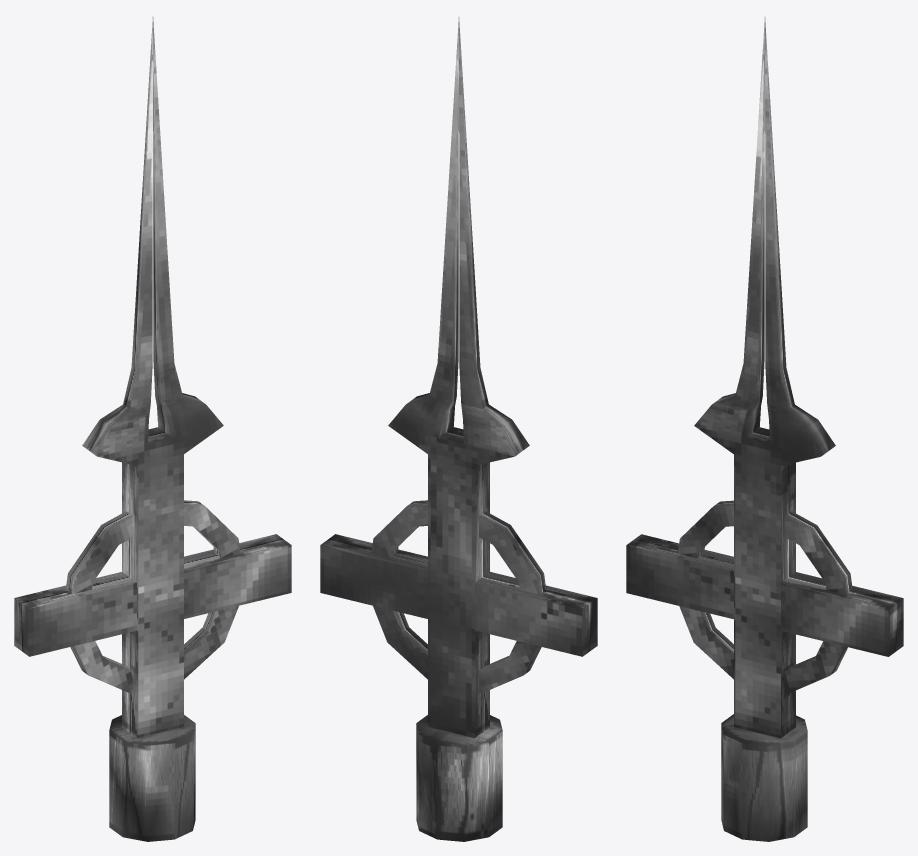
File: cross_ornament_finalwt.fbx
The picture shows the model from 3 angles, left to right: view 1: azimuth 30°, elevation 25°; view 2: azimuth 150°, elevation 25°; view 3: azimuth 330°, elevation 25°; orthographic projection.
Visible parts, largest first — view 1: Cylinder.001; view 2: Cylinder.001; view 3: Cylinder.001.
Part boxes in pixels (x1,y1,x2,y2): Cylinder.001: (14, 17, 291, 841); Cylinder.001: (320, 17, 597, 841); Cylinder.001: (626, 17, 903, 841).
Size of the model in its own units: 982 by 2897 by 287.
